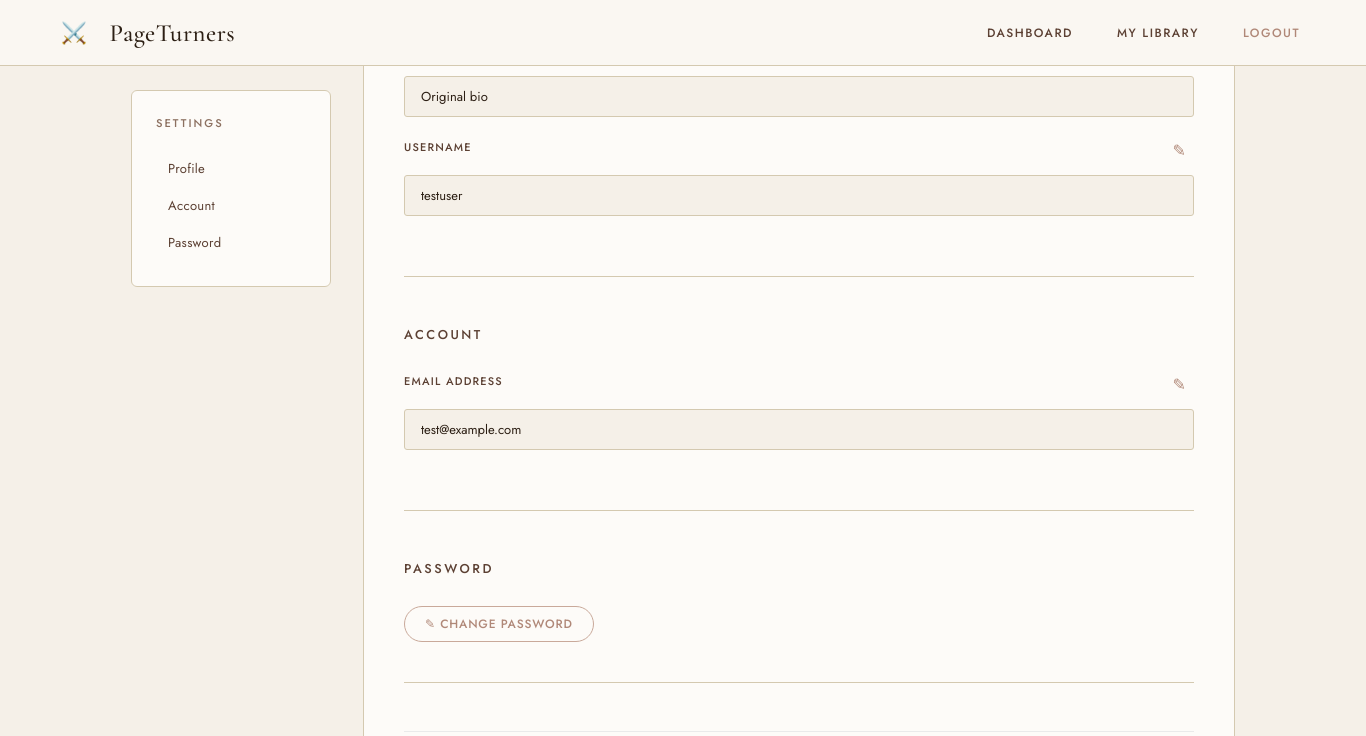
Scenario: Update Profile Fields › Should show error for invalid email format
(page scrolled)
expect the text "test@example.com" is shown: met, box [404,409,1194,450]
Click the button titled "Edit" in the row of "Email Address" at (1179, 384), box [1165,372,1194,397]
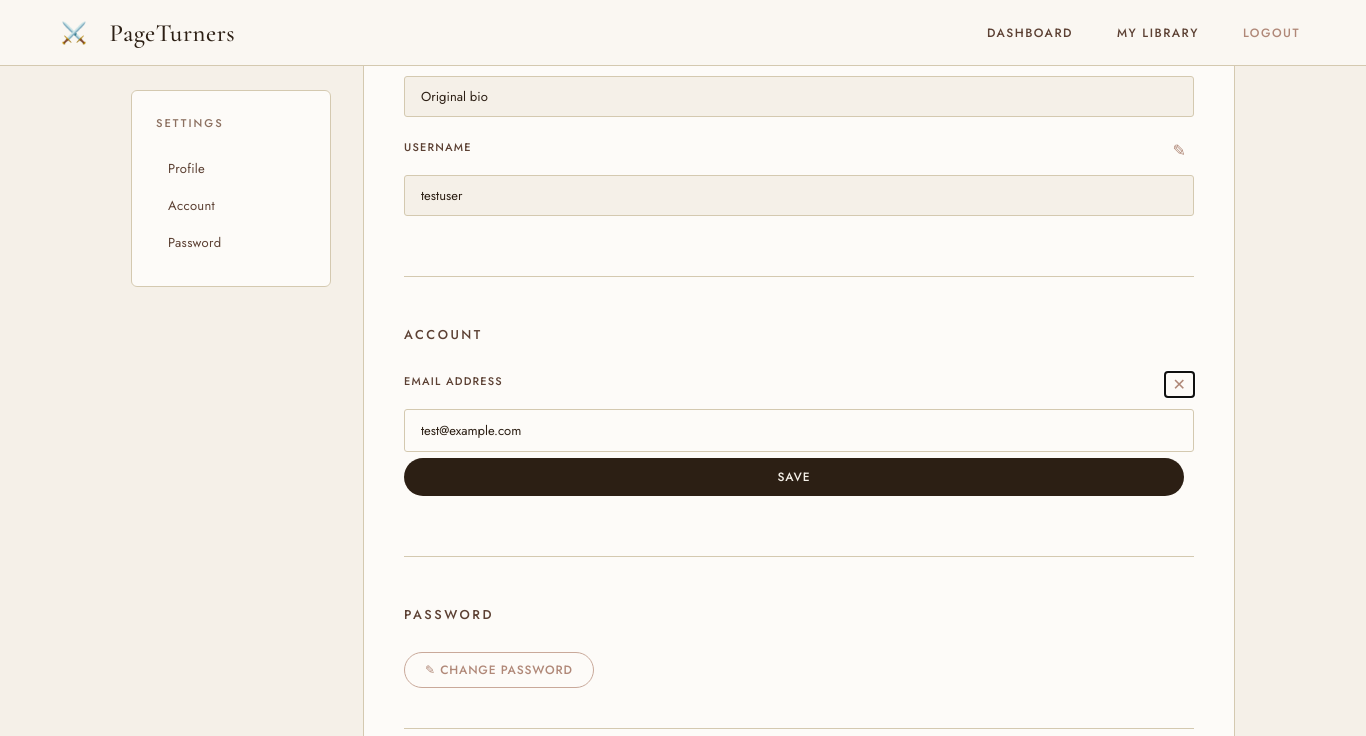
Replace the text in the field with placeholder "your@email.com" with "invalidemail" at (799, 431), box [404,409,1194,452]
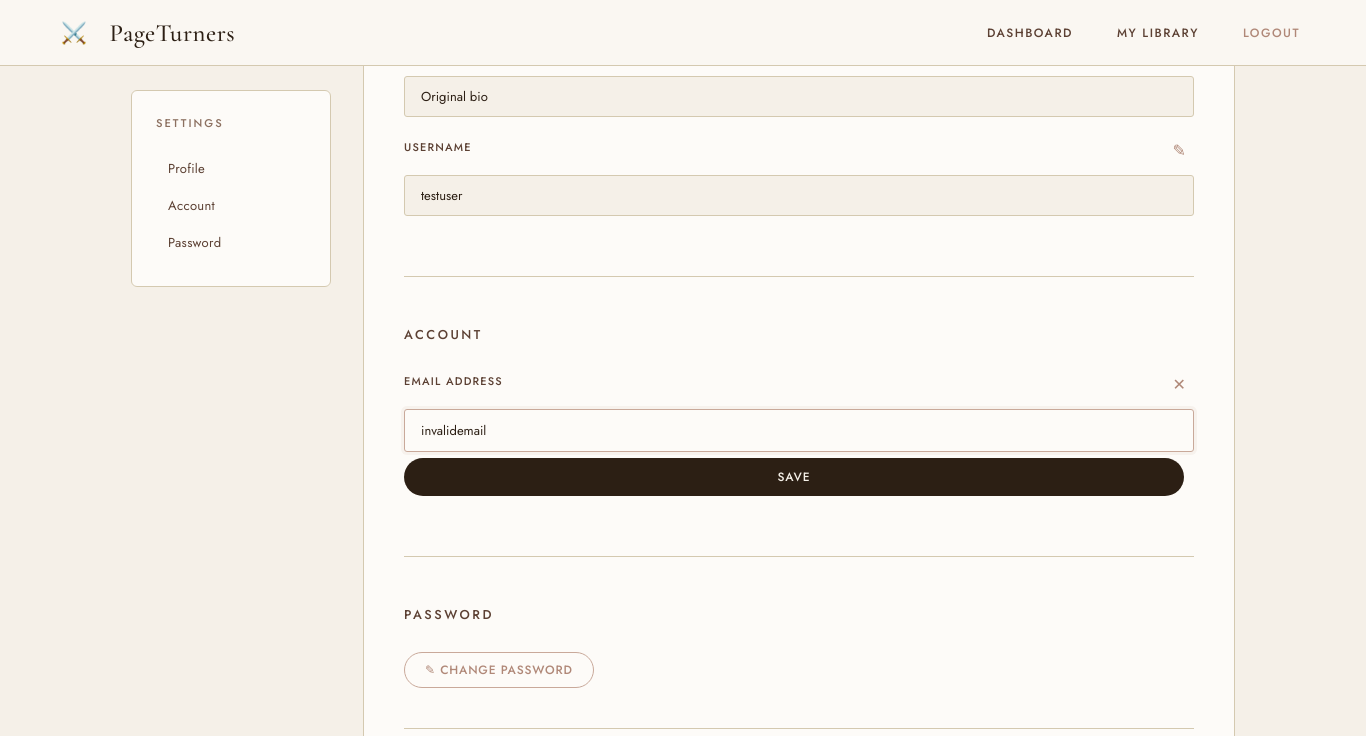
Click the button "Save" at (794, 477), box [404,458,1184,496]
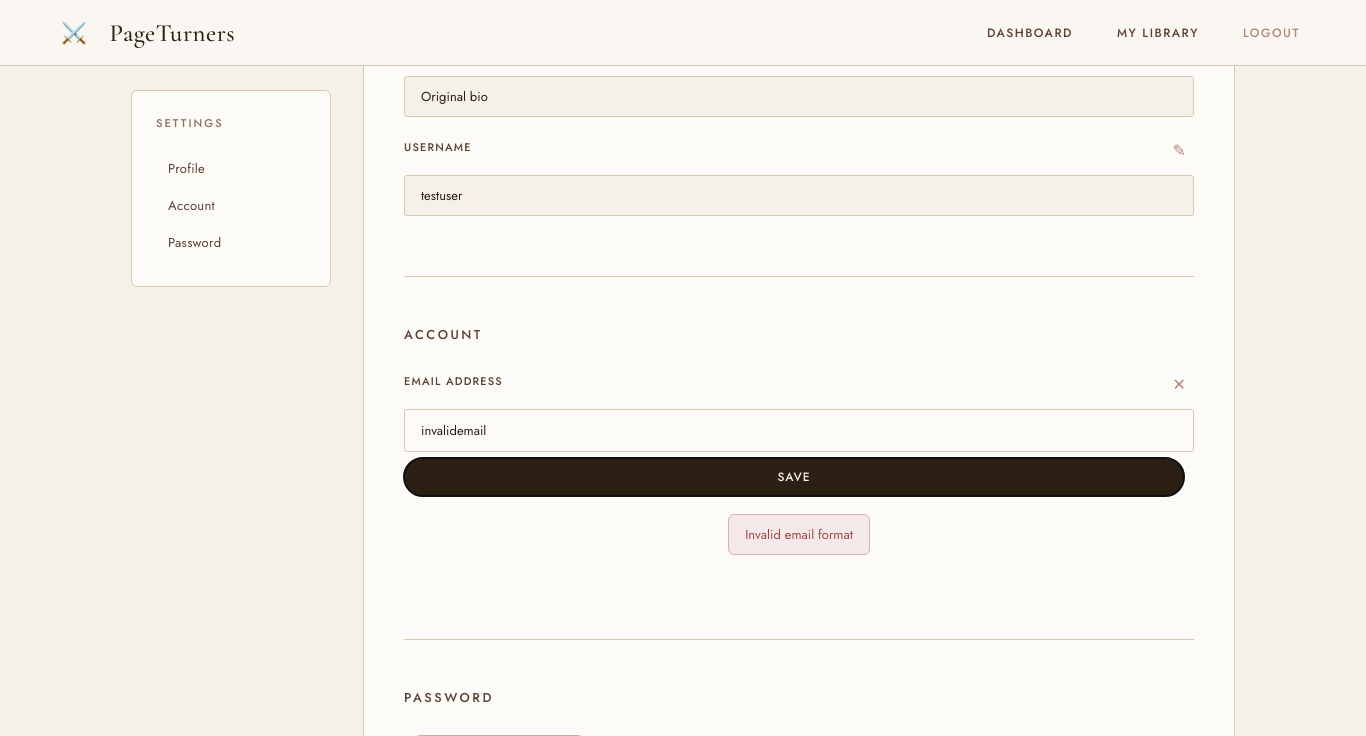
expect the text "Invalid email format" is shown: met, box [728,514,870,555]
